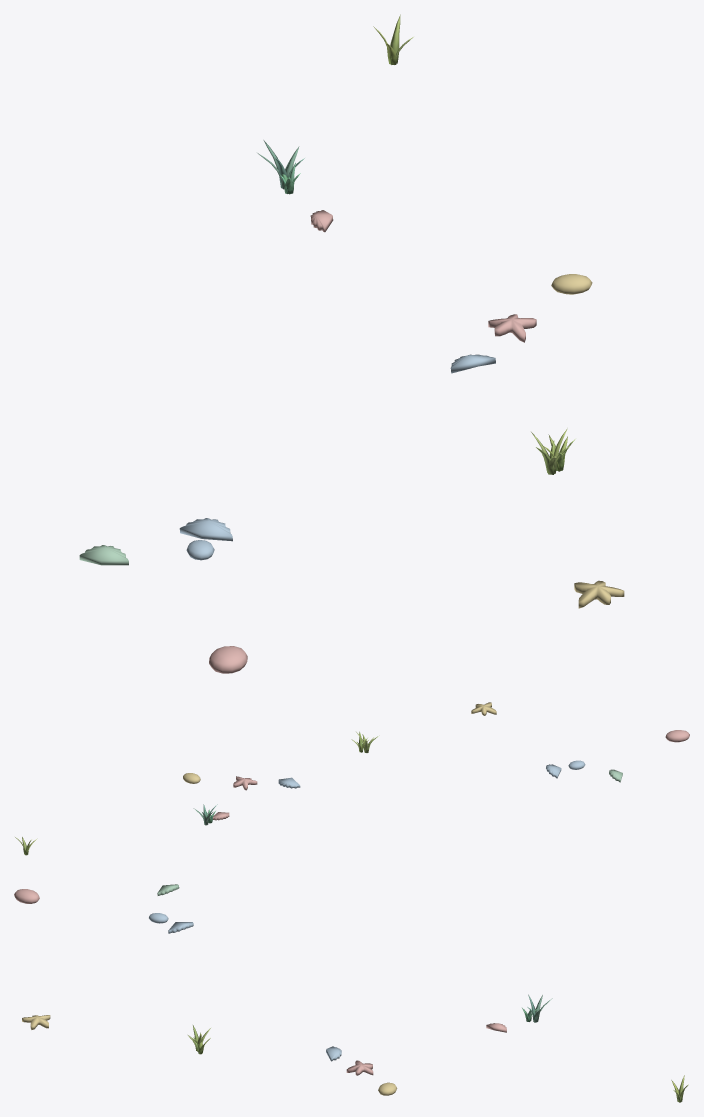
The model's file is W2_FloraRing_7_10.fbx.
3 renders of one model, top to bottom at view 1: azimuth 30°, elevation 25°; view 2: azimuth 150°, elevation 25°; view 3: azimuth 270°, elevation 25°, orthographic. The views are drawn at different scales.
Visible parts, largest first — view 1: W2_FloraRing_7_10; view 2: W2_FloraRing_7_10; view 3: W2_FloraRing_7_10.
Part boxes in pixels (left/top/right/bottom): W2_FloraRing_7_10: left=79, top=14, right=624, bottom=673; W2_FloraRing_7_10: left=15, top=702, right=689, bottom=855; W2_FloraRing_7_10: left=14, top=884, right=688, bottom=1102.
Bounding box in the file's own units: 2.35 × 0.3096 × 3.11.
